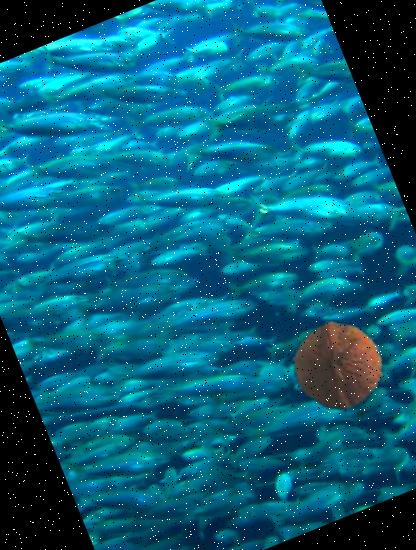Walnut: (279, 306, 397, 424)
